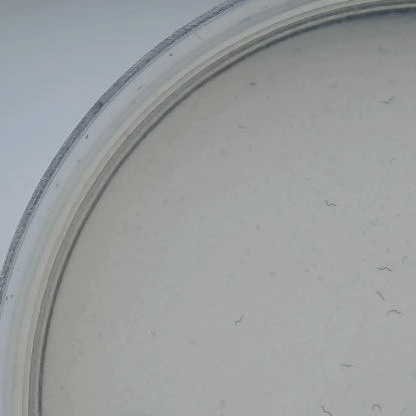worm: (216, 300, 247, 332), (219, 114, 248, 134), (358, 287, 394, 303), (320, 189, 341, 216), (361, 395, 388, 414), (375, 264, 405, 281), (381, 91, 406, 111), (332, 355, 360, 372), (317, 398, 340, 416), (383, 311, 409, 326), (141, 324, 161, 338)
